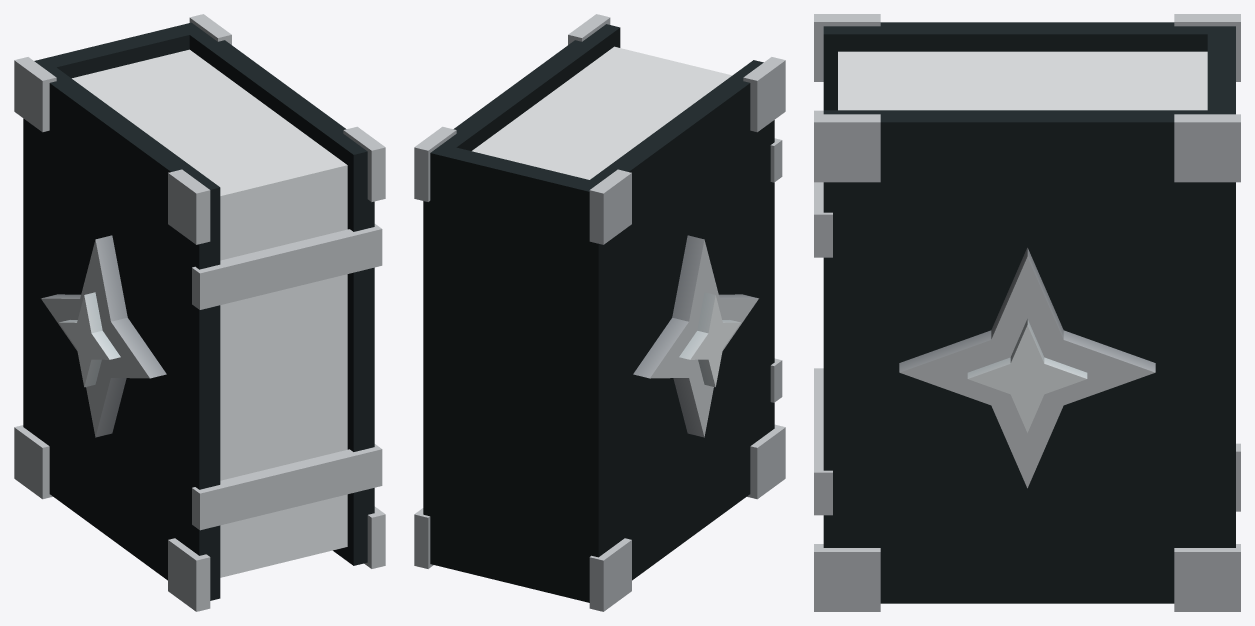
File: mage_off_2.gltf
The picture shows the model from 3 angles, left to right: view 1: azimuth 30°, elevation 25°; view 2: azimuth 150°, elevation 25°; view 3: azimuth 270°, elevation 25°; orthographic projection. The views are drawn at different scales.
Visible parts, largest first — view 1: mage_off_2; view 2: mage_off_2; view 3: mage_off_2.
Part boxes in pixels (x1,y1,x2,y2): mage_off_2: [14, 14, 385, 611]; mage_off_2: [414, 14, 785, 611]; mage_off_2: [814, 14, 1240, 611].
Bounding box in the file's own units: 0.33 × 0.57 × 0.45.
1 material, 1 textured.
